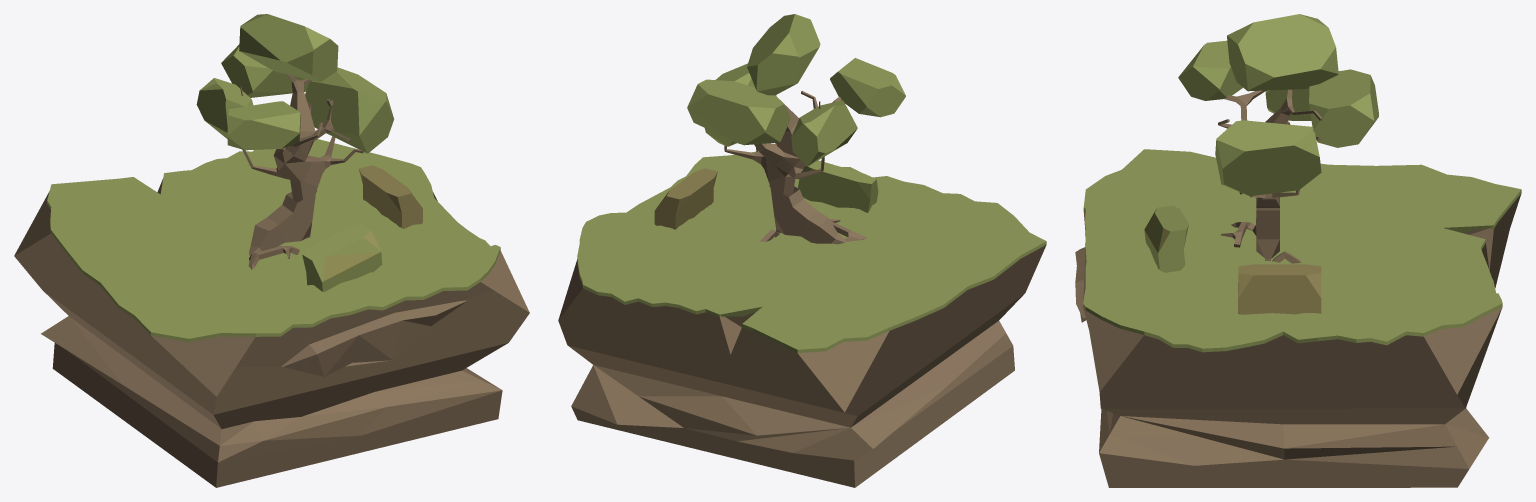
The model's file is dirtgrasshill.fbx.
3 renders of one model, left to right at view 1: azimuth 30°, elevation 25°; view 2: azimuth 150°, elevation 25°; view 3: azimuth 270°, elevation 25°, orthographic. The views are drawn at different scales.
Parts seen in each view (by area): view 1: Cube.006, Plane.004, Cube.010, Cube.011, Cube.014, Cube.009, Cube.012, Cube.008, Cube.007; view 2: Cube.006, Plane.004, Cube.008, Cube.011, Cube.009, Cube.014, Cube.007, Cube.012, Cube.010; view 3: Cube.006, Cube.011, Cube.010, Cube.008, Cube.012, Plane.004, Cube.009, Cube.014, Cube.007.
Boxes of the visible parts, bbox=[...] form: Cube.006: bbox=[14, 139, 529, 487]; Plane.004: bbox=[240, 74, 363, 269]; Cube.010: bbox=[305, 67, 394, 153]; Cube.011: bbox=[239, 14, 338, 82]; Cube.014: bbox=[302, 224, 382, 291]; Cube.009: bbox=[227, 101, 300, 150]; Cube.012: bbox=[359, 165, 422, 228]; Cube.008: bbox=[221, 44, 308, 97]; Cube.007: bbox=[196, 78, 253, 138]; Cube.006: bbox=[558, 151, 1046, 487]; Plane.004: bbox=[724, 91, 867, 244]; Cube.008: bbox=[687, 79, 790, 145]; Cube.011: bbox=[747, 14, 820, 95]; Cube.009: bbox=[830, 58, 905, 117]; Cube.014: bbox=[798, 160, 878, 212]; Cube.007: bbox=[791, 100, 857, 166]; Cube.012: bbox=[654, 168, 717, 229]; Cube.010: bbox=[704, 63, 755, 146]; Cube.006: bbox=[1075, 149, 1521, 487]; Cube.011: bbox=[1227, 14, 1338, 91]; Cube.010: bbox=[1215, 120, 1321, 195]; Cube.008: bbox=[1309, 69, 1378, 147]; Cube.012: bbox=[1238, 264, 1321, 314]; Plane.004: bbox=[1218, 89, 1322, 263]; Cube.009: bbox=[1178, 40, 1242, 100]; Cube.014: bbox=[1144, 205, 1188, 272]; Cube.007: bbox=[1265, 71, 1339, 120].
Bounding box in the file's own units: 4449 × 4310 × 4357.
